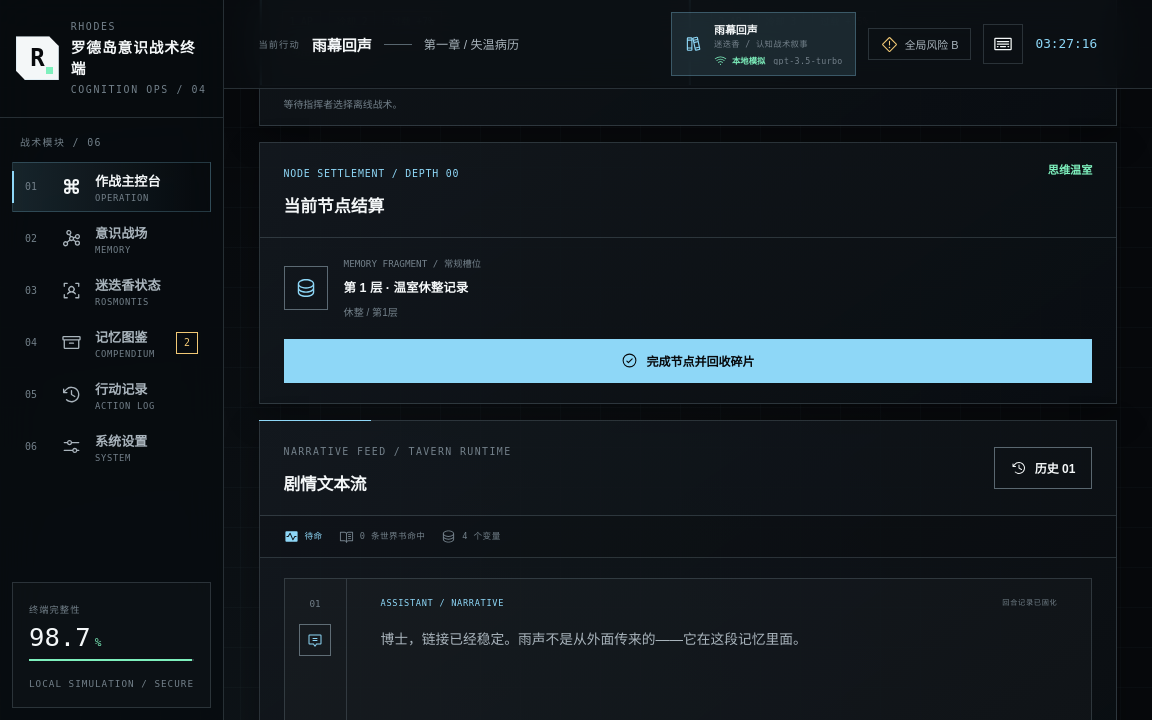
Test case: settles the current node and resolves a blocking fragment overflow through the UI
The width and height of the screenshot is (1152, 720).
(page scrolled)
Click the button with aria-label "完成节点并回收记忆碎片": [688, 361] box [284, 339, 1092, 383]
(page scrolled)
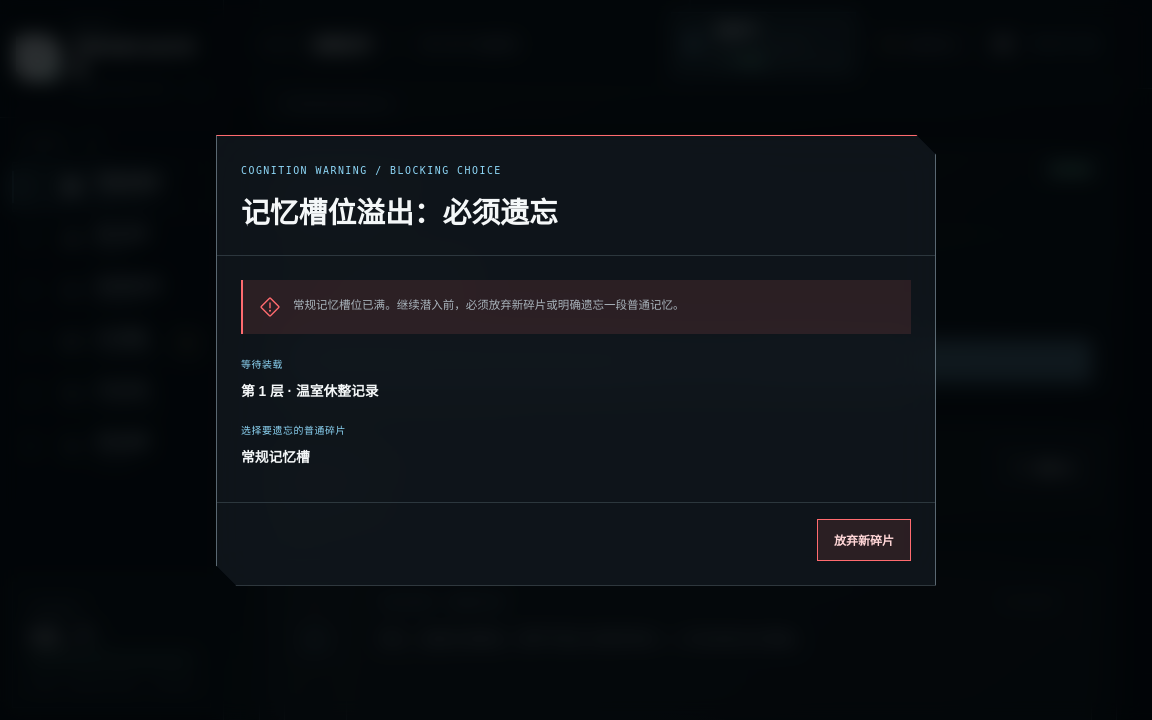
Expected: the dialog "记忆槽位溢出：必须遗忘" is shown, [216, 134, 936, 586]
Click the button "放弃新碎片": [864, 540] box [817, 518, 911, 560]
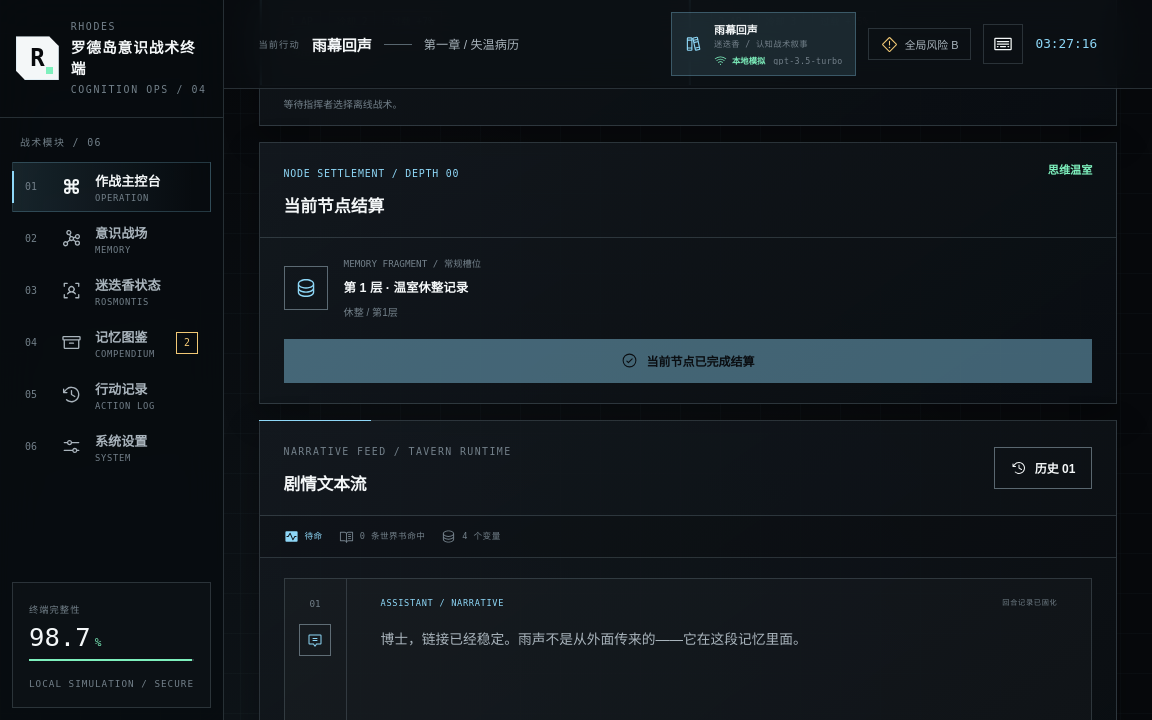
Expected: the heading "记忆槽位溢出：必须遗忘" is gone
